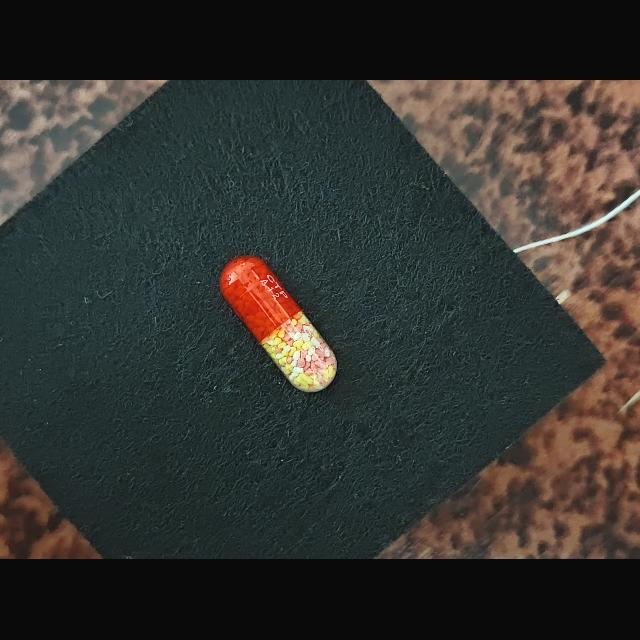Intact Capsule: (219, 256, 337, 393)
